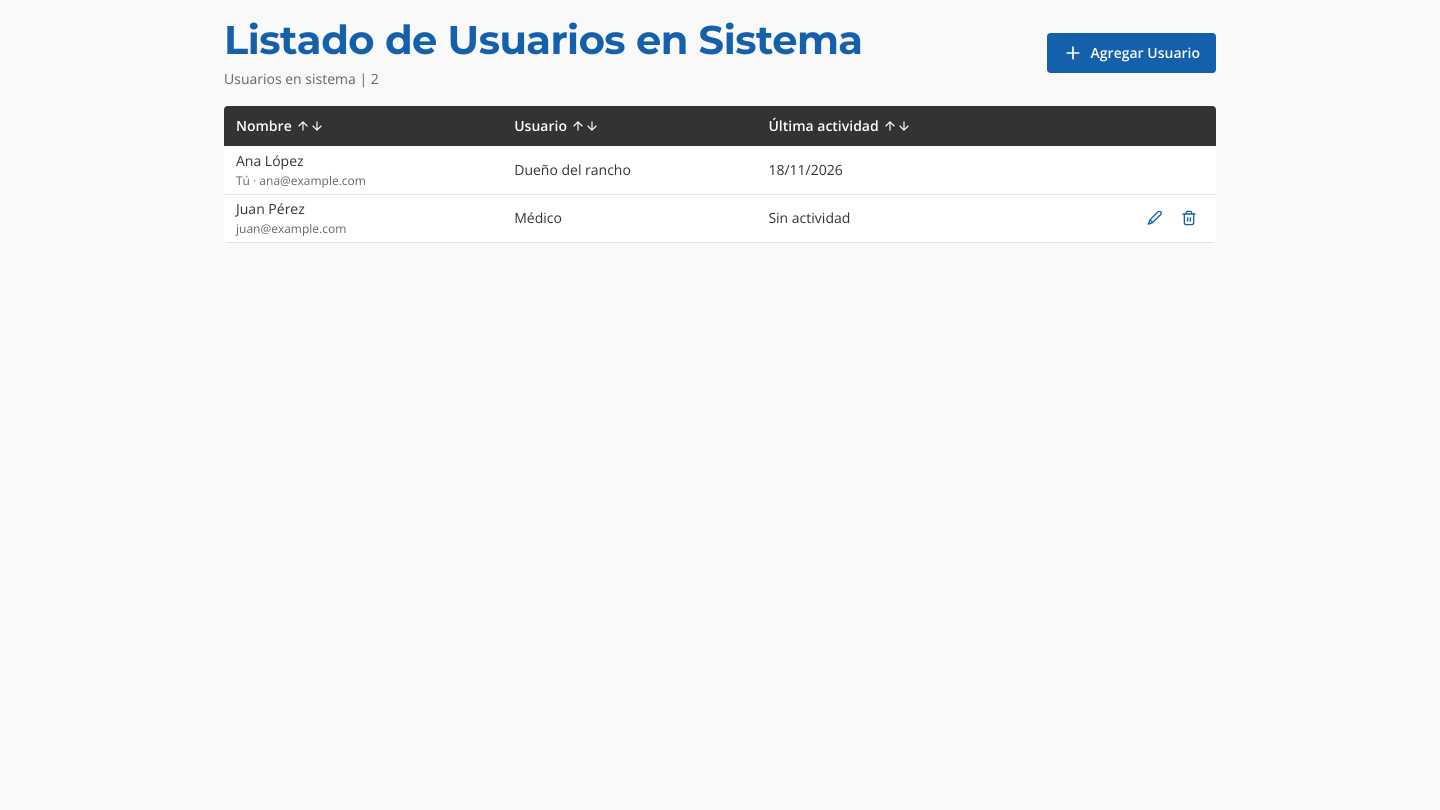
Scenario: UsersPage › removes a user after the confirmation that says their history is kept
Click the button named "Dar de baja a Juan Pérez" at (1189, 218), box [1174,203,1204,233]
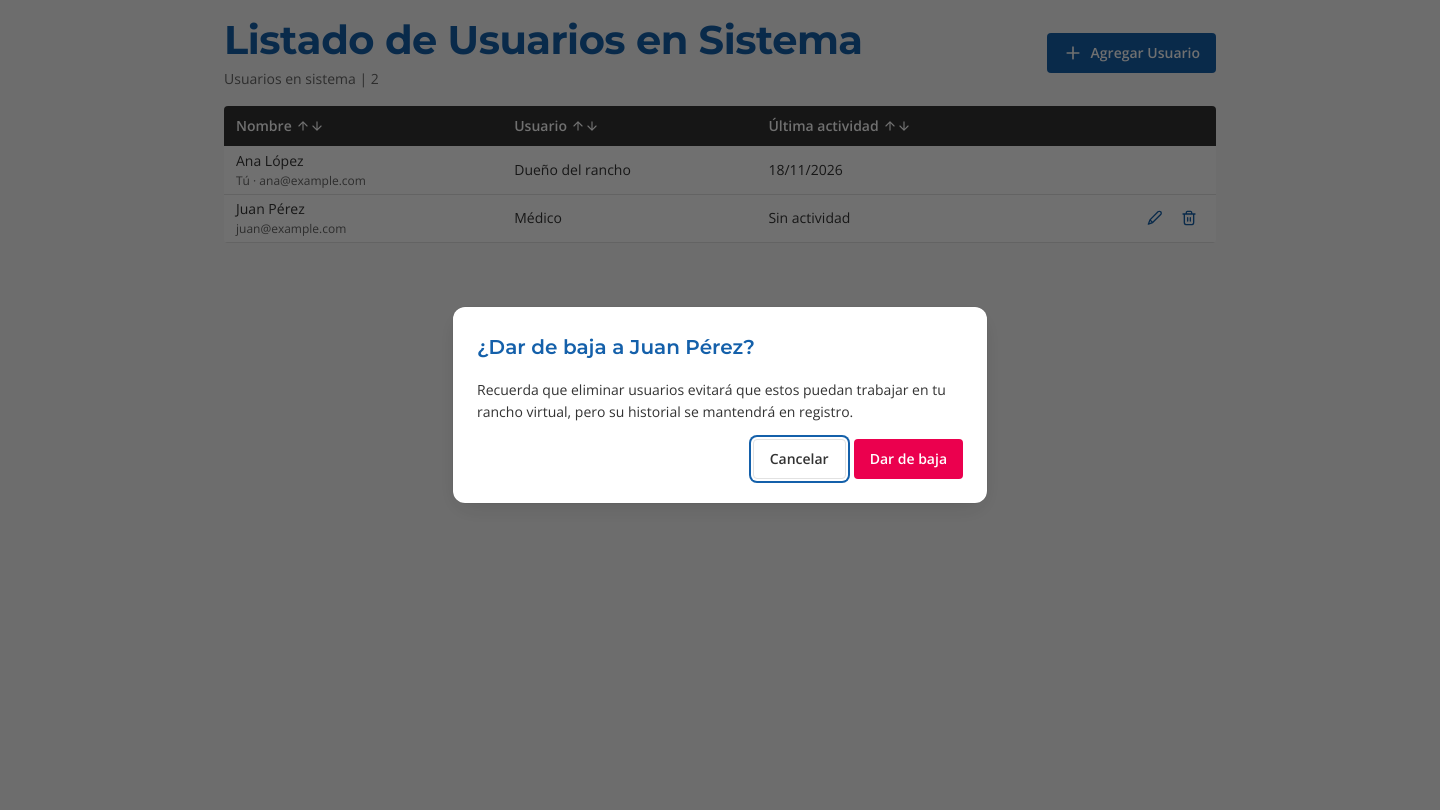
Expected: the dialog shows "su historial se mantendrá en registro", [477,380,946,421]
Click the button "Dar de baja" at (908, 459), box [854,439,963,479]
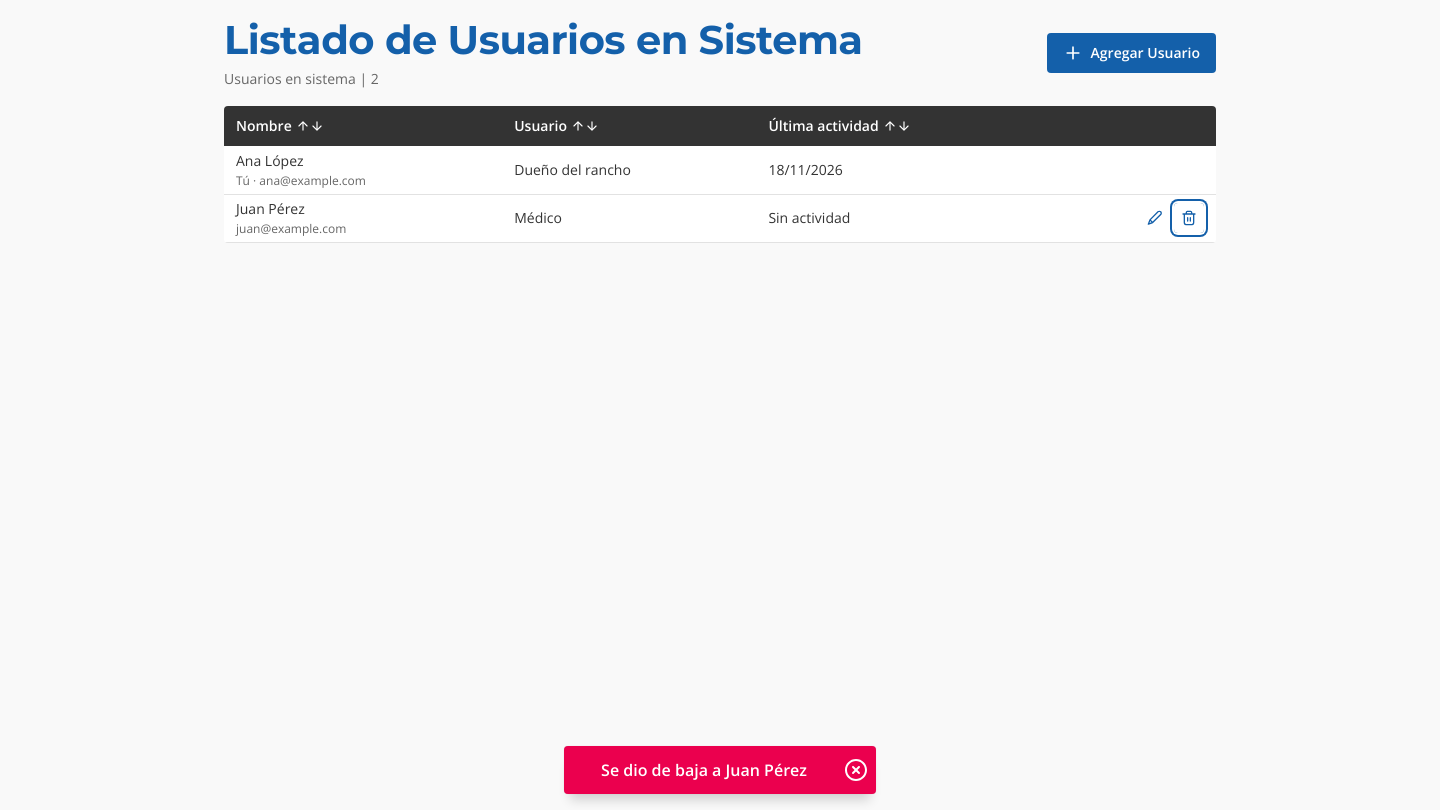
Expected: the text "Se dio de baja a Juan Pérez" is shown, [601,759,807,781]
